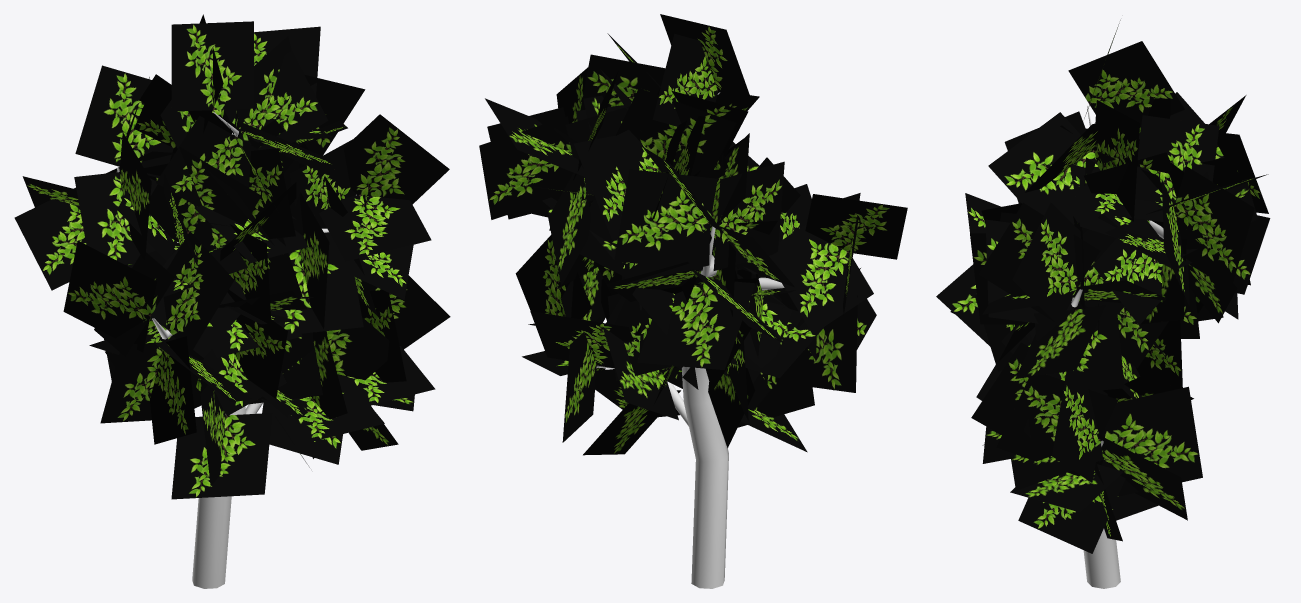
The model's file is Tree6.fbx.
3 renders of one model, left to right at view 1: azimuth 30°, elevation 25°; view 2: azimuth 150°, elevation 25°; view 3: azimuth 270°, elevation 25°, orthographic. The views are drawn at different scales.
Parts seen in each view (by area): view 1: Tree6; view 2: Tree6; view 3: Tree6.
Boxes of the visible parts, x1,y1,x2,y2 form: Tree6: (14,14,450,588); Tree6: (479,14,907,588); Tree6: (936,20,1270,588).
Size of the model in its own units: 571 by 801 by 459.
